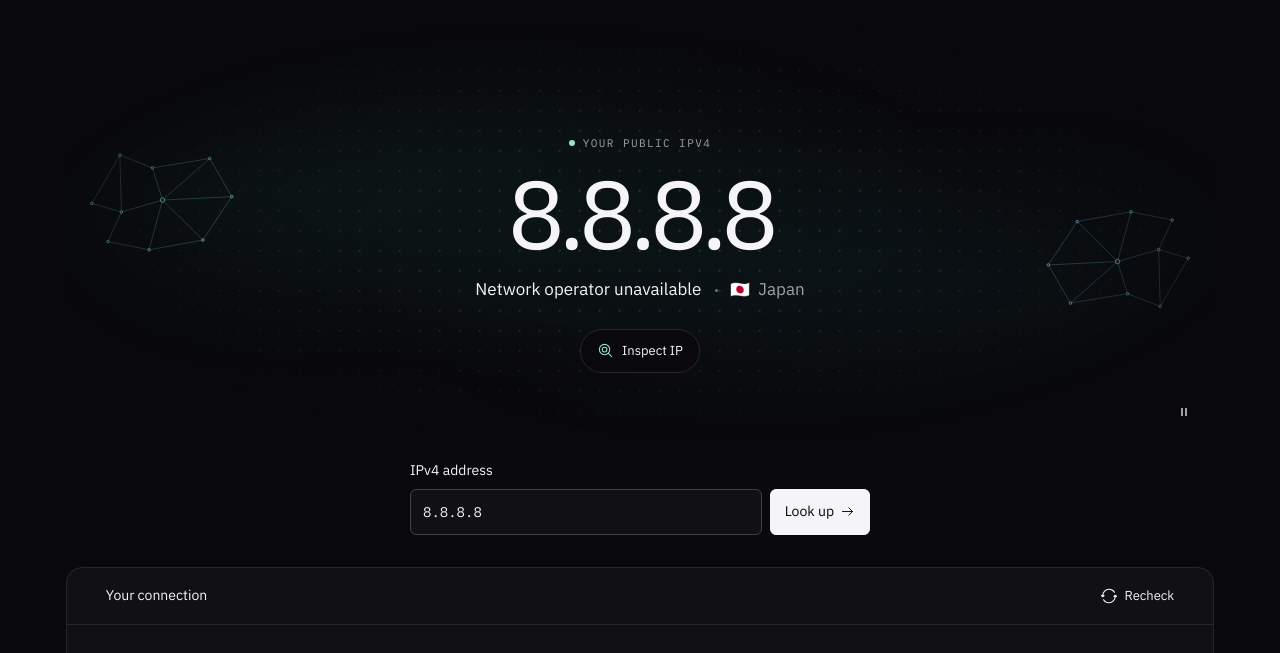
Test: focused live connection screen › clears an old result on failure and retries the failed request
This screenshot has width=1280, height=653.
expect the heading "8.8.8.8" is shown: met, box [508, 165, 773, 261]
Step 1. Replace the text in the field labelled "IPv4 address" with "1.1.1.1" → (586, 512), box [410, 489, 762, 535]
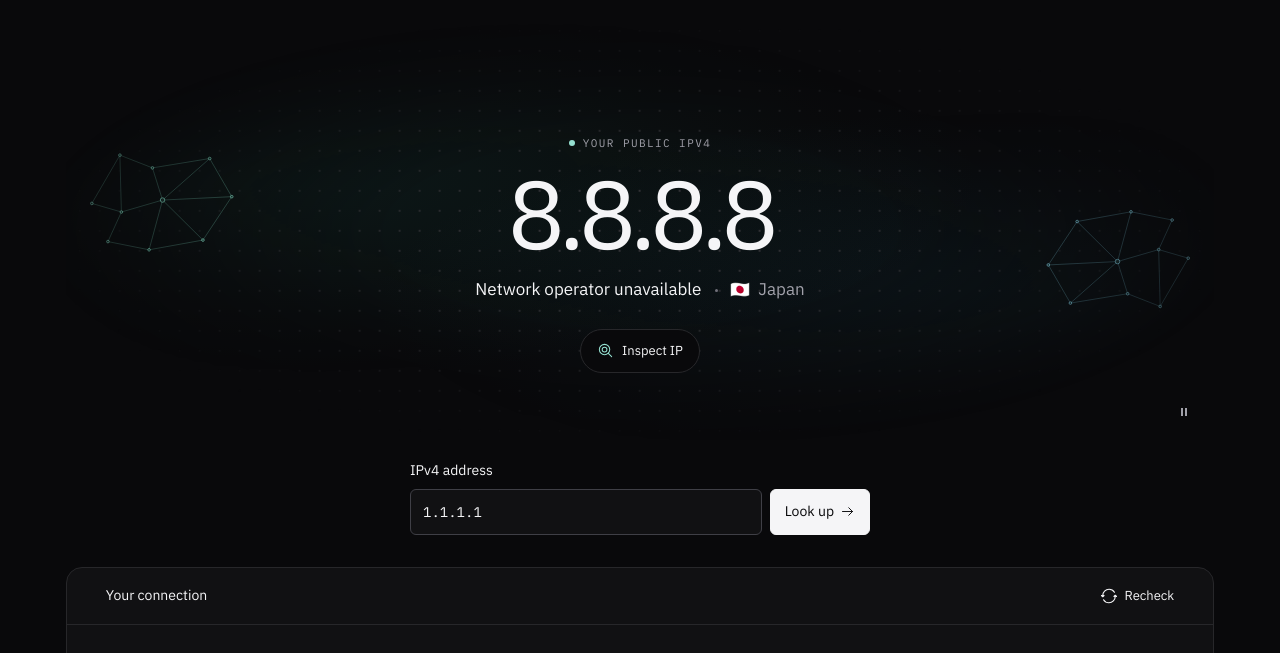
Step 2. Click the button "Look up" → click(820, 512), box [770, 489, 870, 535]
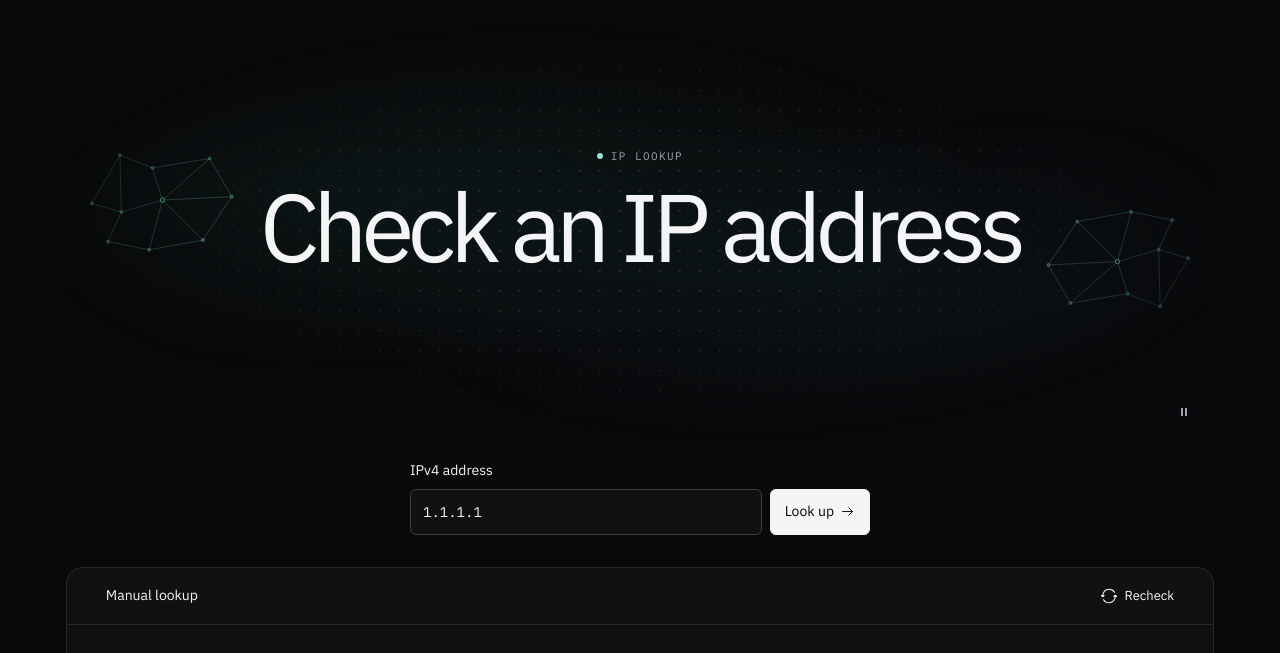
expect the heading "8.8.8.8" is gone: met
Step 3. Replace the text in the field labelled "IPv4 address" with "9.9.9.9" → (586, 512), box [410, 489, 762, 535]
(page scrolled)
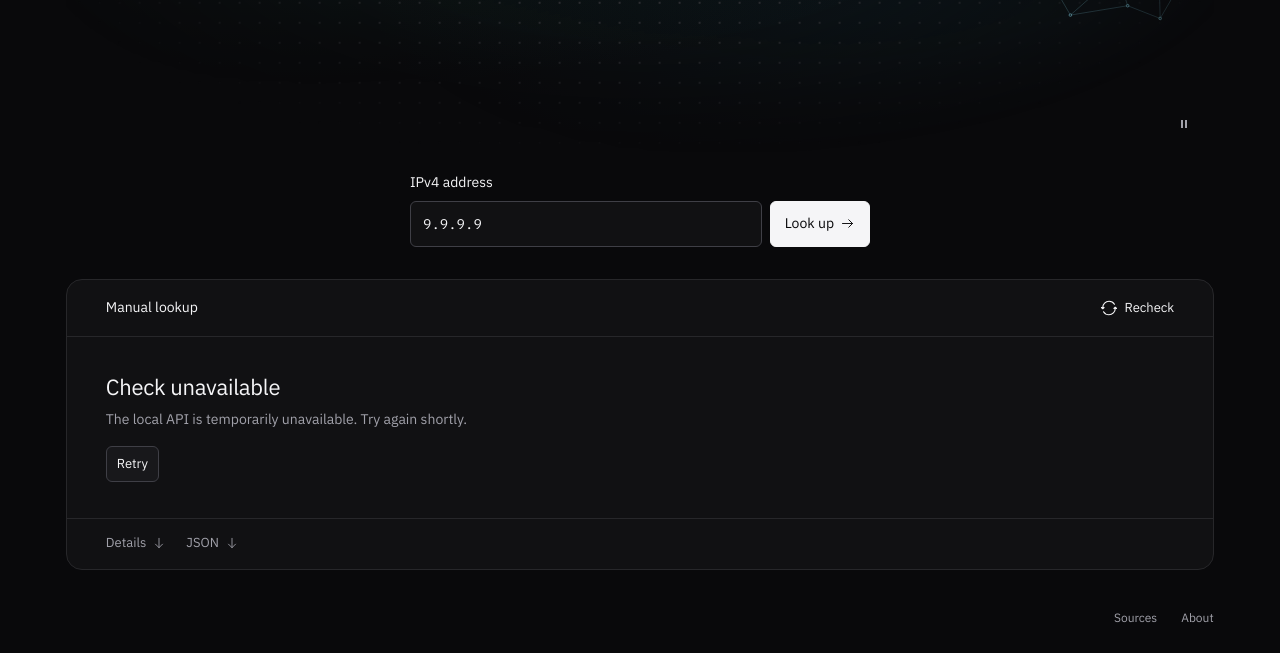
Step 4. Click the button "Retry" → click(132, 464), box [106, 446, 159, 482]
(page scrolled)
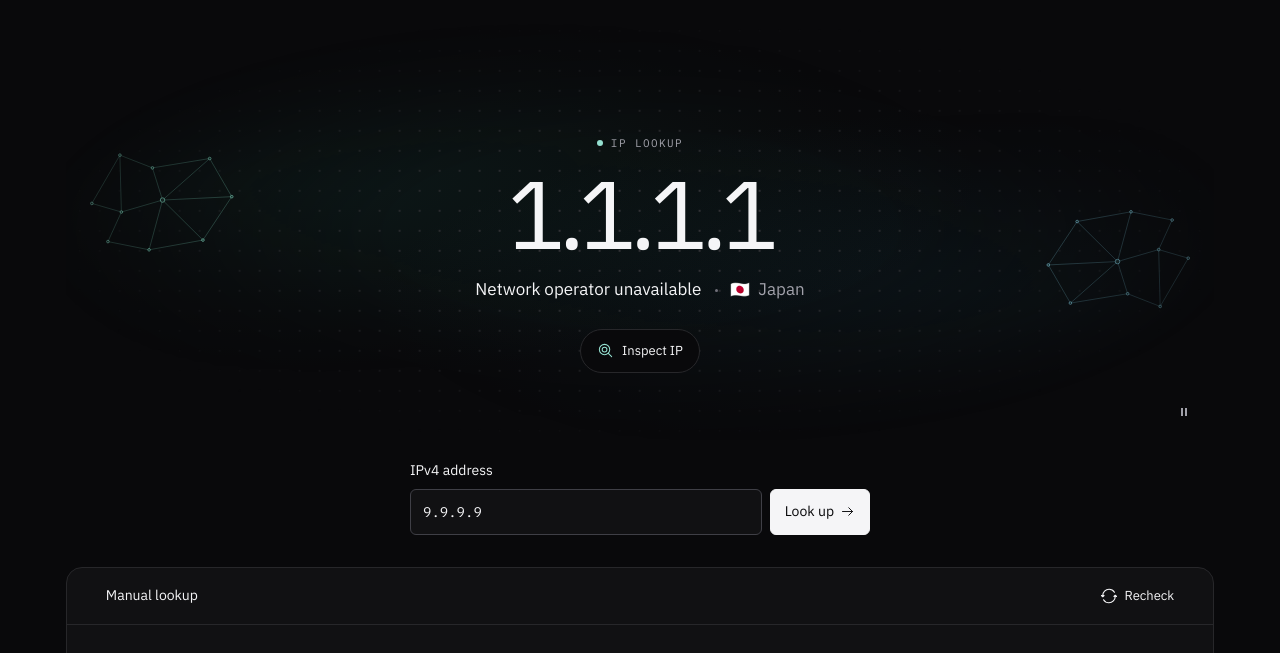
expect the heading "1.1.1.1" is shown: met, box [508, 165, 773, 261]
